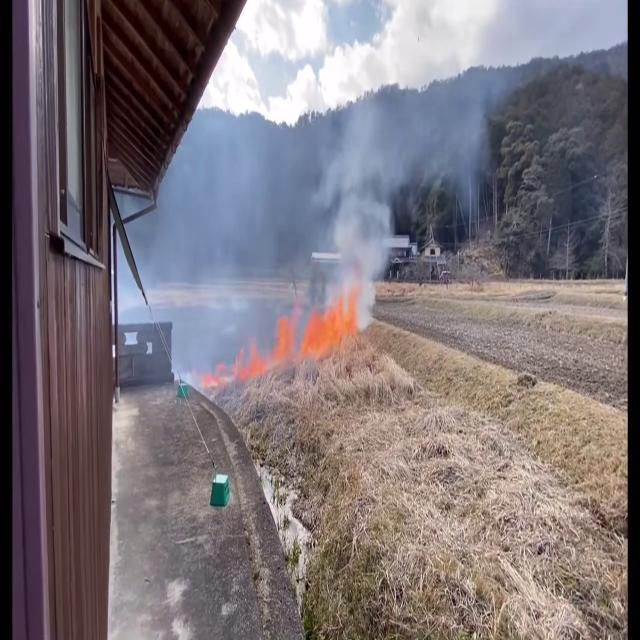Fire: (273, 282, 361, 370)
Smoke: (197, 29, 506, 349)
